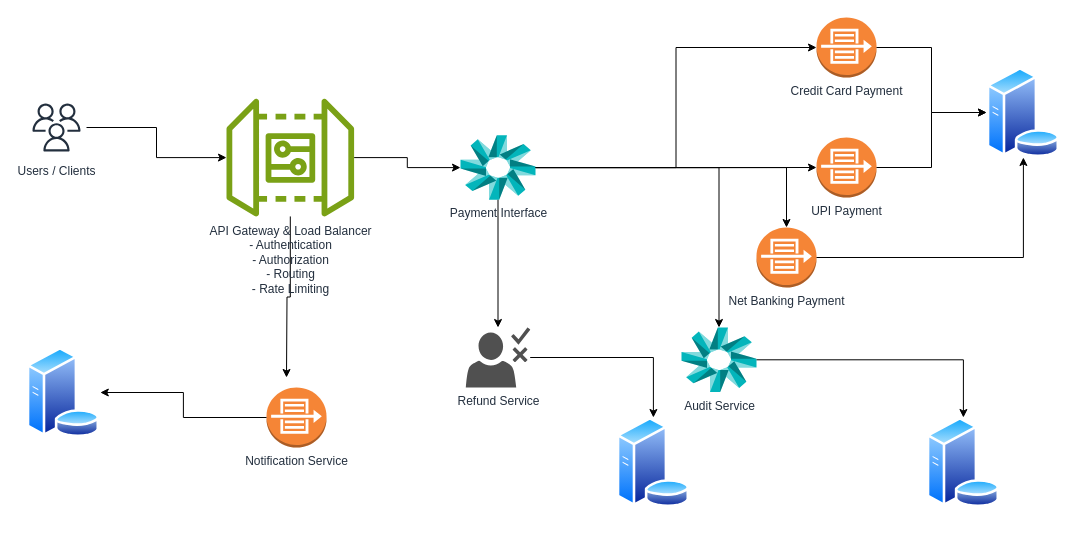
Image size: 1081x545. Some labels were removed from this diagram. Here are the shapes that lost their labels. From the top down, the centre of each, then its label:
At (x=1023, y=112): "Transaction DB".
At (x=63, y=392): "Notification DB".
At (x=653, y=462): "Refund DB".
At (x=963, y=462): "Audit DB".
